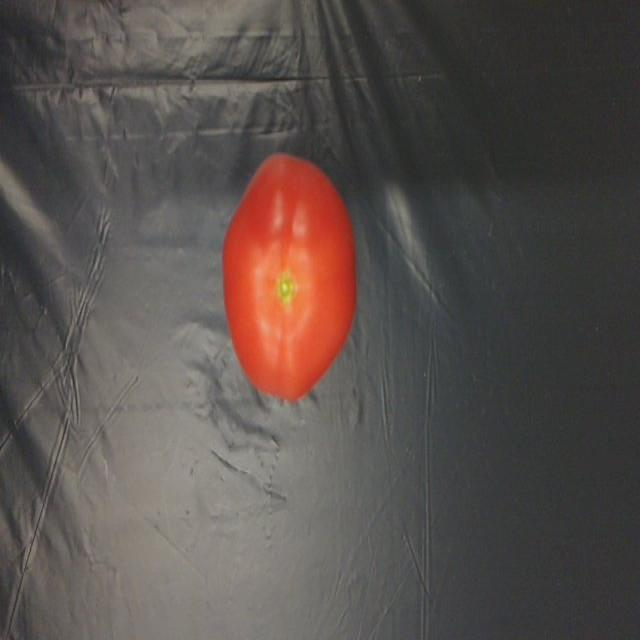kirmizi: (219, 137, 357, 406)
